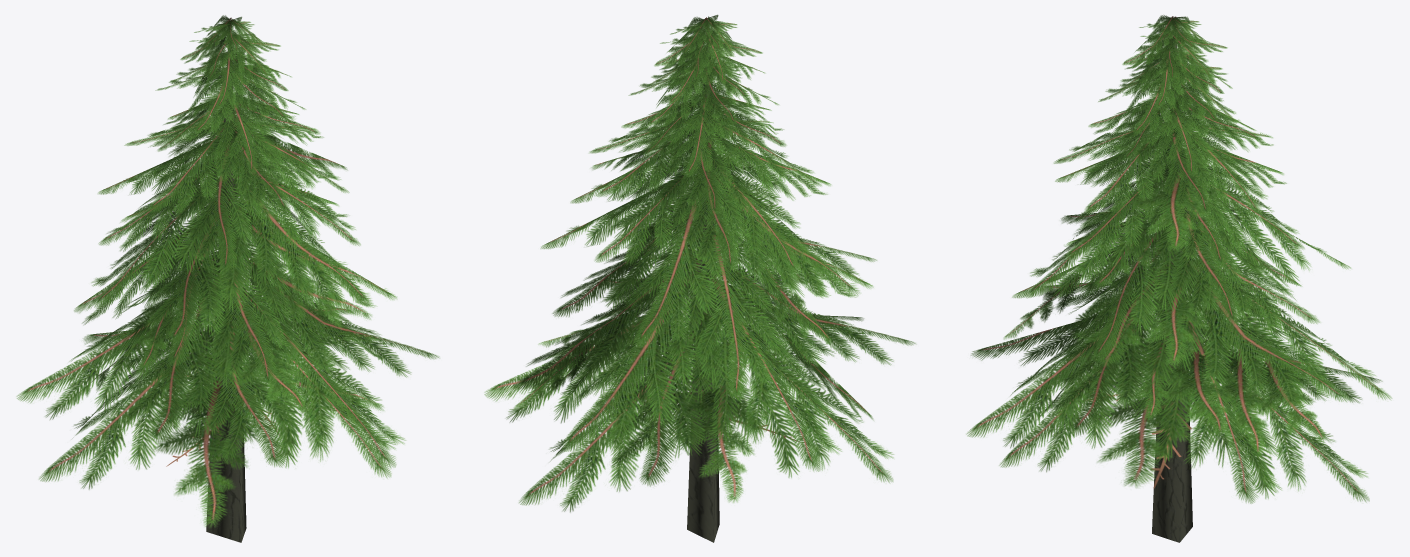
File: tree.glb
3 views of the same model, side by side, from view 1: azimuth 30°, elevation 25°; view 2: azimuth 150°, elevation 25°; view 3: azimuth 270°, elevation 25° (orthographic).
Parts seen in each view (by area): view 1: Branches, Trunk; view 2: Branches, Trunk; view 3: Branches, Trunk.
Part boxes in pixels (left/top/right/bottom): Branches: left=16, top=15, right=439, bottom=527; Trunk: left=206, top=19, right=246, bottom=542; Branches: left=484, top=14, right=915, bottom=512; Trunk: left=687, top=19, right=719, bottom=542; Branches: left=966, top=15, right=1392, bottom=503; Trunk: left=1152, top=18, right=1192, bottom=542.
Bounding box in the file's own units: 57.01 × 74.28 × 56.73.
Materials: 2 (2 with a texture image).
